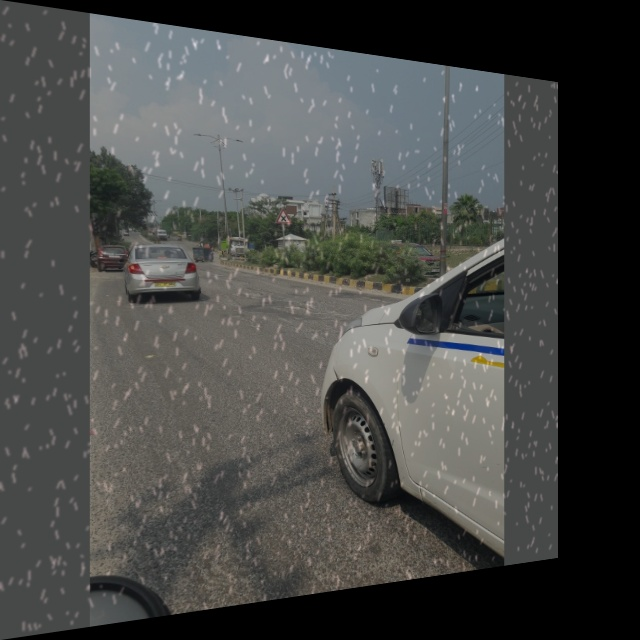Cross_Road: (272, 201, 295, 226)
